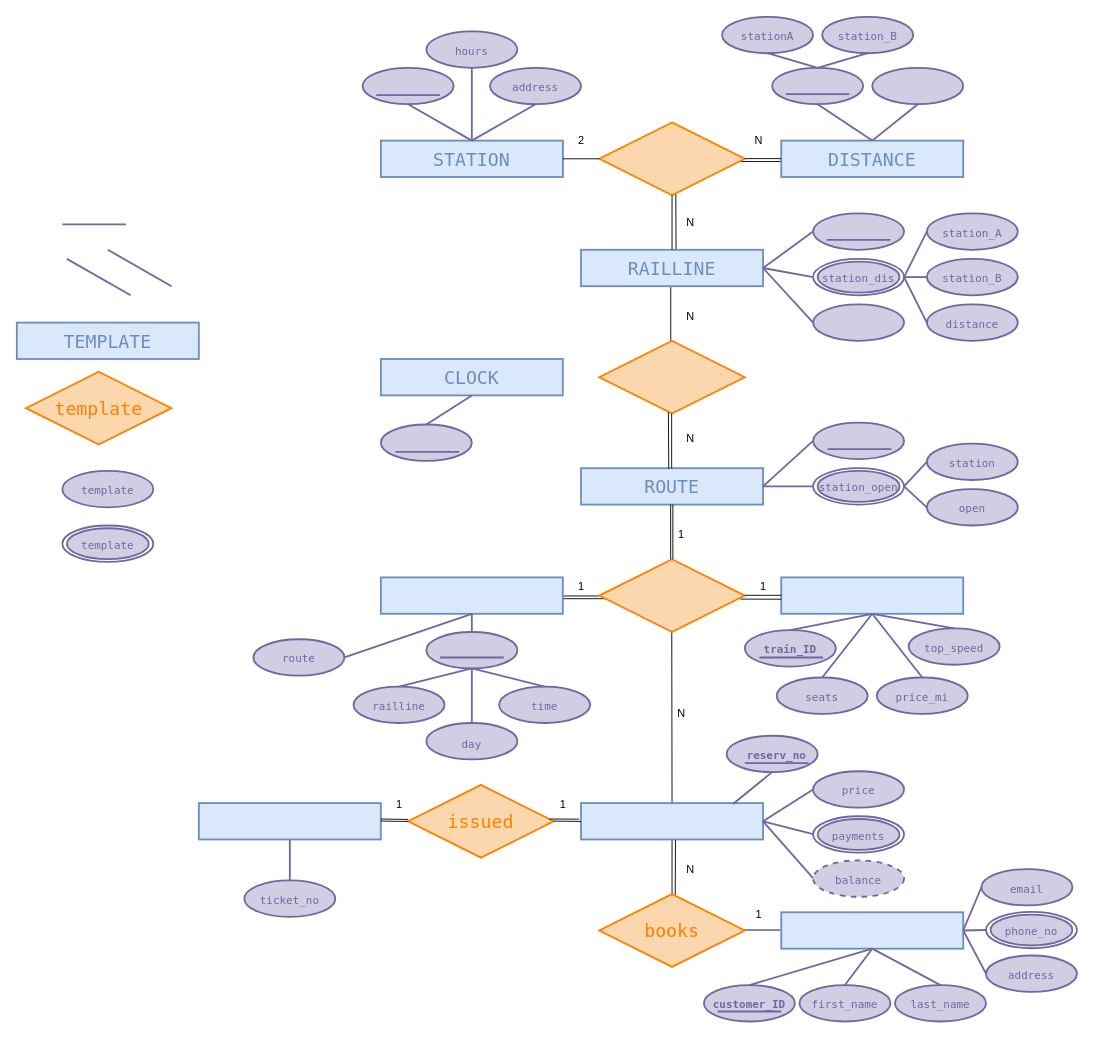
Some shapes in this 1093 by 1037 pixel diagram are drawn without their labels. The centre of each missing label's shape, as x and y in pixels:
"has" goes at point 671,158.
"miles" goes at point 917,85.
"p_date" goes at point 425,442.
"PASSENGER" goes at point 872,930.
"rail_ID" goes at point 858,231.
"RDT" goes at point 471,650.
"requires" goes at point 671,595.
"RESERVATION" goes at point 671,821.
"route_ID" goes at point 858,440.
"SCHEDULE" goes at point 471,595.
"speed" goes at point 858,322.
"station_no" goes at point 407,85.
"stationA-stationB" goes at point 817,85.
"TICKET" goes at point 289,821.
"TRAIN" goes at point 872,595.
"traverses" goes at point 671,376.
